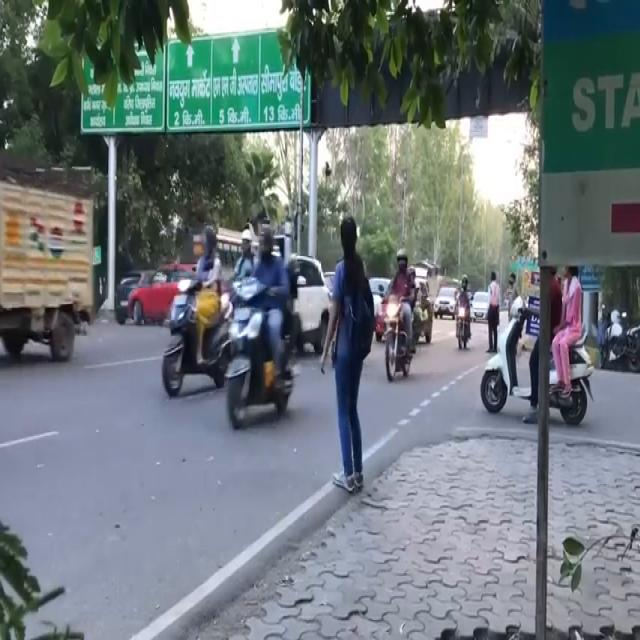MOTORCYCLE: (483, 305, 589, 421), (225, 277, 295, 427), (160, 271, 220, 398), (387, 292, 420, 380), (455, 297, 473, 348)
TRUCK: (0, 174, 116, 369)
